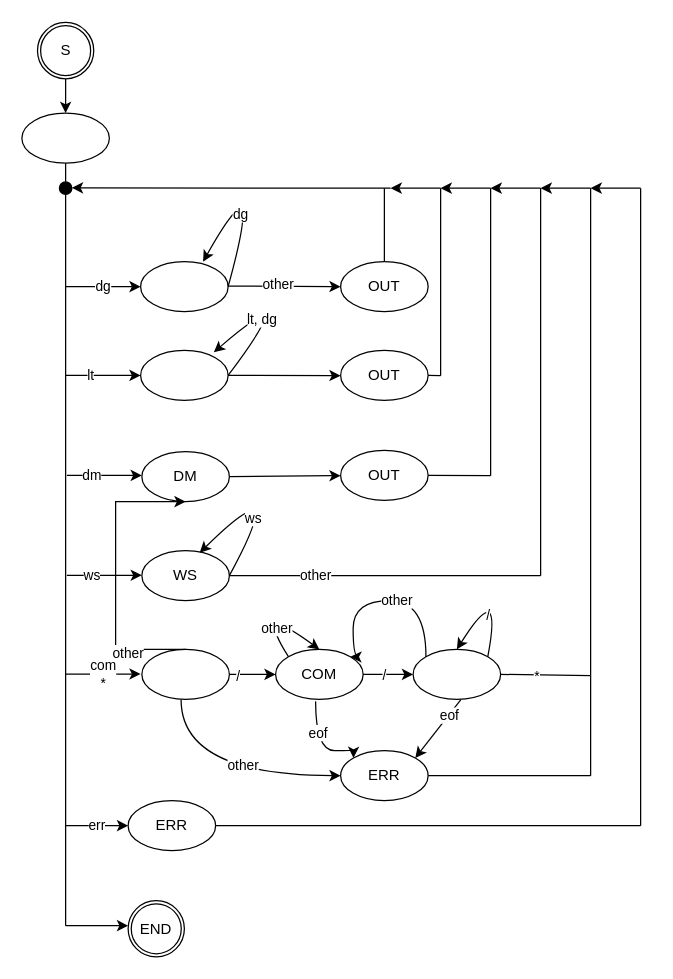
This 673x979 diagram has some shape labels left out. Each missing label, with the centre of its shape:
"BCOM" goes at (x=185, y=673).
"CNS" goes at (x=183, y=286).
"ECOM" goes at (x=456, y=673).
"IDN" goes at (x=183, y=374).
"INP" goes at (x=65, y=137).
